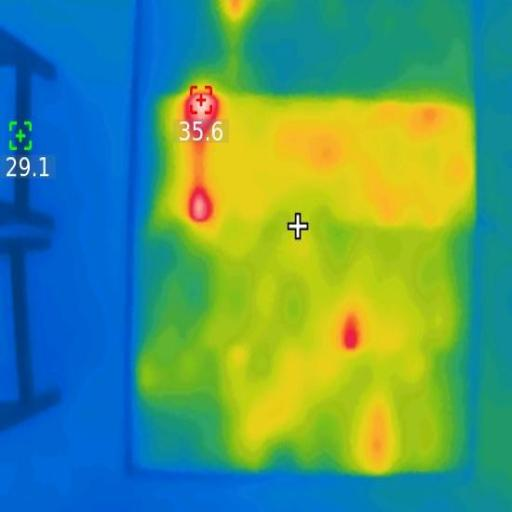hotspot: (182, 92, 222, 139), (187, 183, 216, 224), (342, 317, 360, 355)
